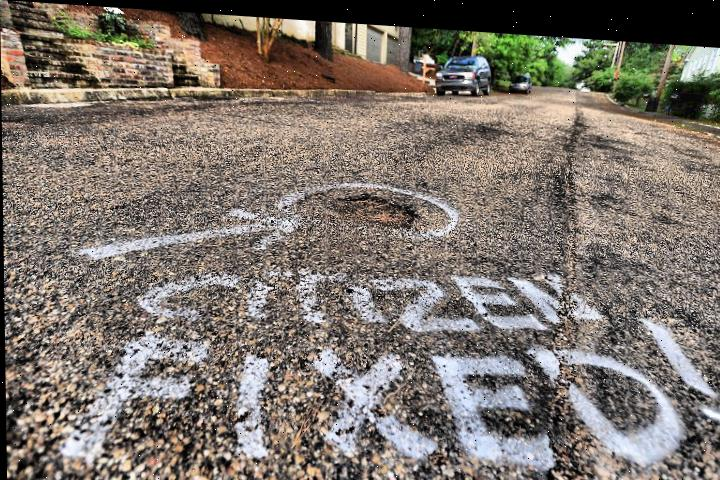pothole: (337, 182, 415, 241)
